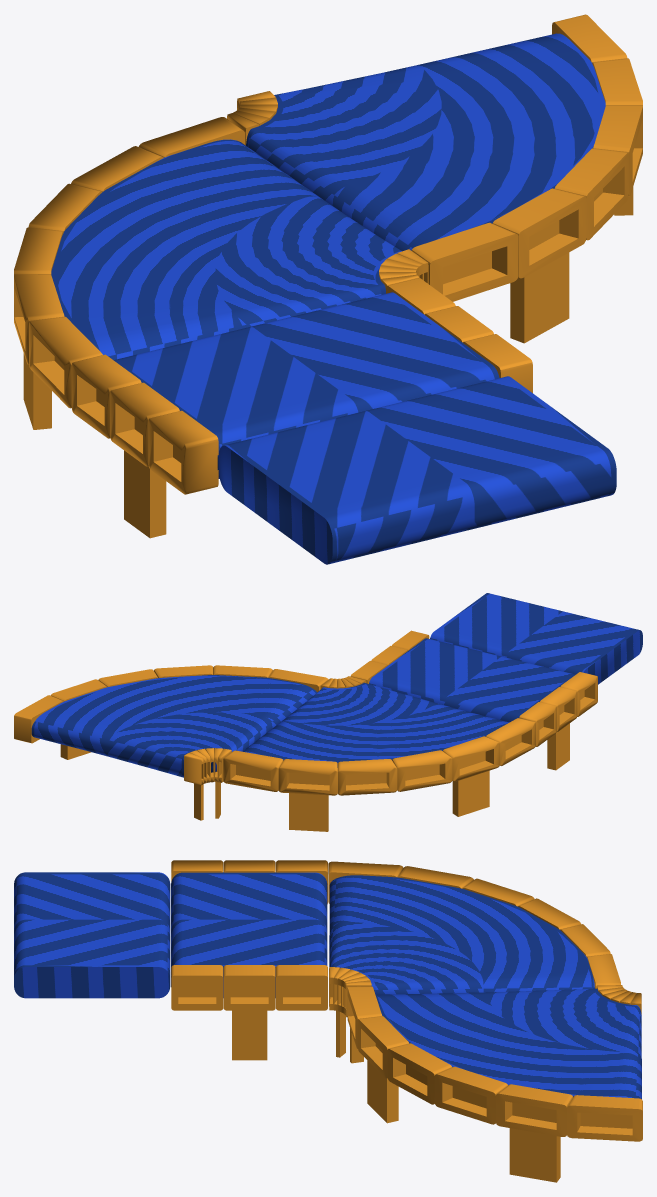
File: Conveyor_krivoy.fbx
3 views of the same model, one above another, from view 1: azimuth 30°, elevation 25°; view 2: azimuth 150°, elevation 25°; view 3: azimuth 270°, elevation 25° (orthographic). The views are drawn at different scales.
Visible parts, largest first — view 1: machines_conveyor_002, machines_conveyor, machines_conveyor_001; view 2: machines_conveyor_001, machines_conveyor_002, machines_conveyor; view 3: machines_conveyor_002, machines_conveyor, machines_conveyor_001.
Part boxes in pixels (<box>): machines_conveyor_002: <box>71,278,616,564</box>; machines_conveyor: <box>227,14,642,343</box>; machines_conveyor_001: <box>14,117,428,429</box>; machines_conveyor_001: <box>223,676,535,831</box>; machines_conveyor_002: <box>350,593,642,770</box>; machines_conveyor: <box>14,665,328,820</box>; machines_conveyor_002: <box>14,860,327,1060</box>; machines_conveyor: <box>347,985,642,1182</box>; machines_conveyor_001: <box>328,861,620,1063</box>.
Bounding box in the file's own units: 374 × 61.56 × 402.
Materials: 3 (2 with a texture image).
